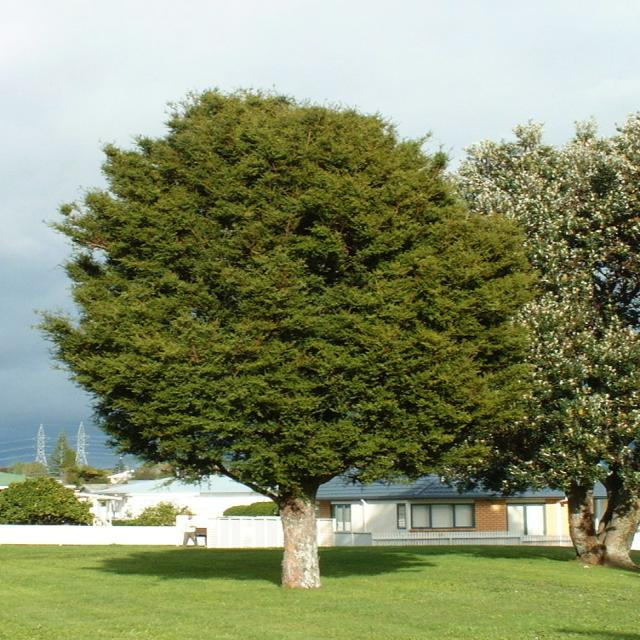Totara: (41, 98, 572, 592)
